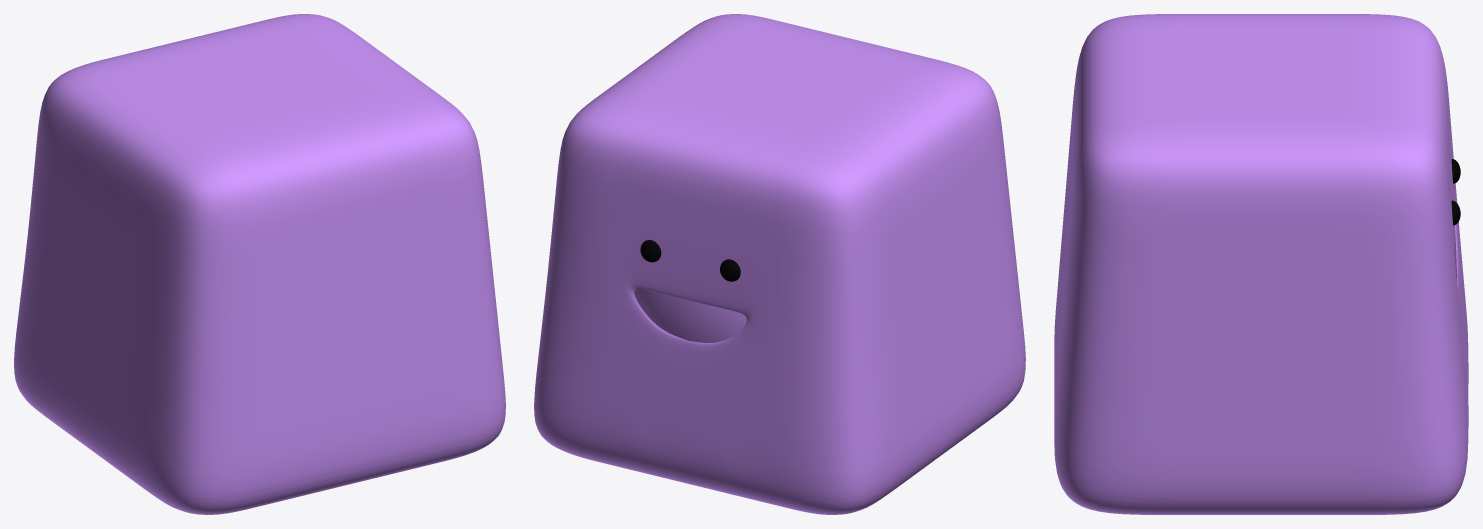
The model's file is Dino2.fbx.
3 renders of one model, left to right at view 1: azimuth 30°, elevation 25°; view 2: azimuth 150°, elevation 25°; view 3: azimuth 270°, elevation 25°, orthographic. The views are drawn at different scales.
Visible parts, largest first — view 1: body; view 2: body, Sphere, eyes; view 3: body.
Part boxes in pixels (<box>): body: <box>14,14,505,514</box>; body: <box>534,14,1025,514</box>; Sphere: <box>634,289,746,342</box>; eyes: <box>640,240,740,281</box>; body: <box>1054,14,1468,514</box>.
Bounding box in the file's own units: 20.61 × 19.64 × 20.09.
